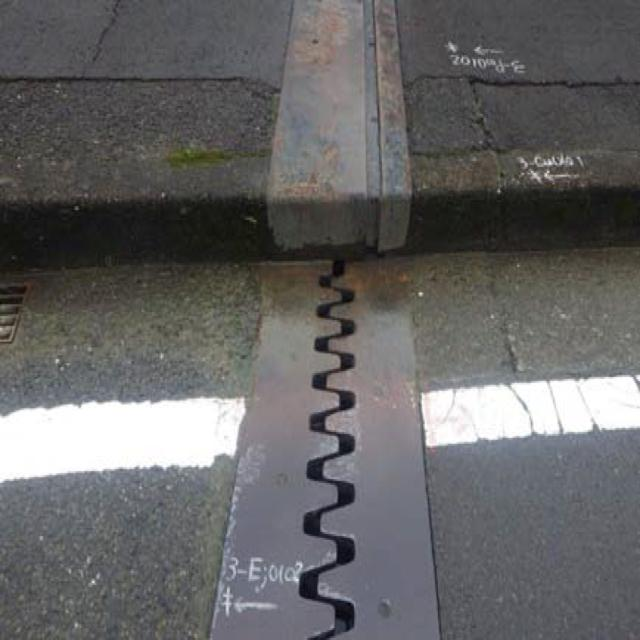corrosion: (226, 10, 450, 640)
